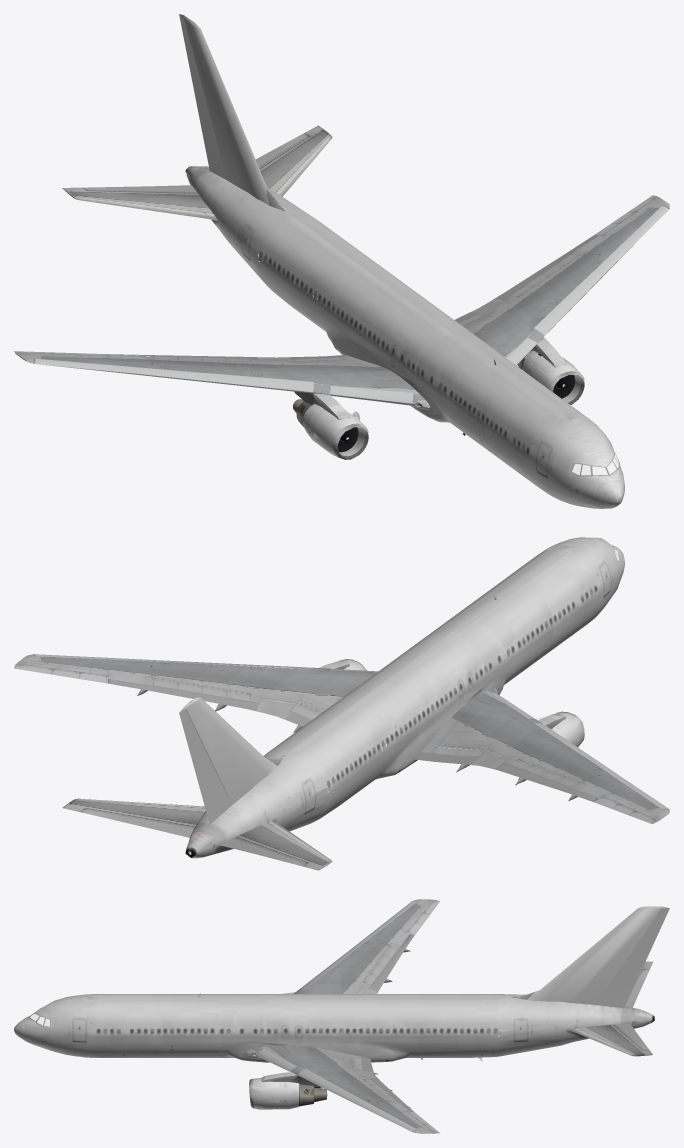
The picture shows the model from 3 angles, top to bottom: view 1: azimuth 30°, elevation 25°; view 2: azimuth 150°, elevation 25°; view 3: azimuth 270°, elevation 25°; orthographic projection. The views are drawn at different scales.
Visible parts, largest first — view 1: Fuselage, RWing.002, GDR, Orelinhas.003, LfConeTurbofan; view 2: Fuselage, RWing.002, GDR, Orelinhas.003, speedbrake_RE.003; view 3: Fuselage, RWing.002, GDR, Orelinhas.003, speedbrake_RE.003.
Part boxes in pixels (left/top/right/bottom): Fuselage: left=185, top=166, right=624, bottom=508; RWing.002: left=14, top=125, right=669, bottom=452; GDR: left=179, top=14, right=584, bottom=459; Orelinhas.003: left=35, top=206, right=669, bottom=476; LfConeTurbofan: left=338, top=375, right=584, bottom=458; Fuselage: left=185, top=537, right=624, bottom=858; RWing.002: left=14, top=598, right=669, bottom=870; GDR: left=179, top=590, right=596, bottom=824; Orelinhas.003: left=35, top=546, right=668, bottom=808; speedbrake_RE.003: left=152, top=679, right=578, bottom=787; Fuselage: left=14, top=994, right=654, bottom=1062; RWing.002: left=246, top=899, right=652, bottom=1133; GDR: left=100, top=906, right=669, bottom=1109; Orelinhas.003: left=29, top=901, right=482, bottom=1131; speedbrake_RE.003: left=368, top=947, right=397, bottom=1101.
Size of the model in its own units: 46.31 by 15.01 by 54.93.
Materials: 18 (18 with a texture image).
